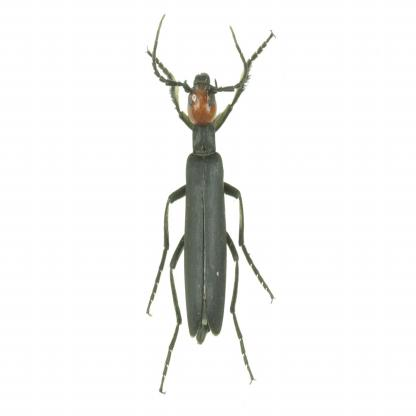beetle: (146, 12, 272, 389)
